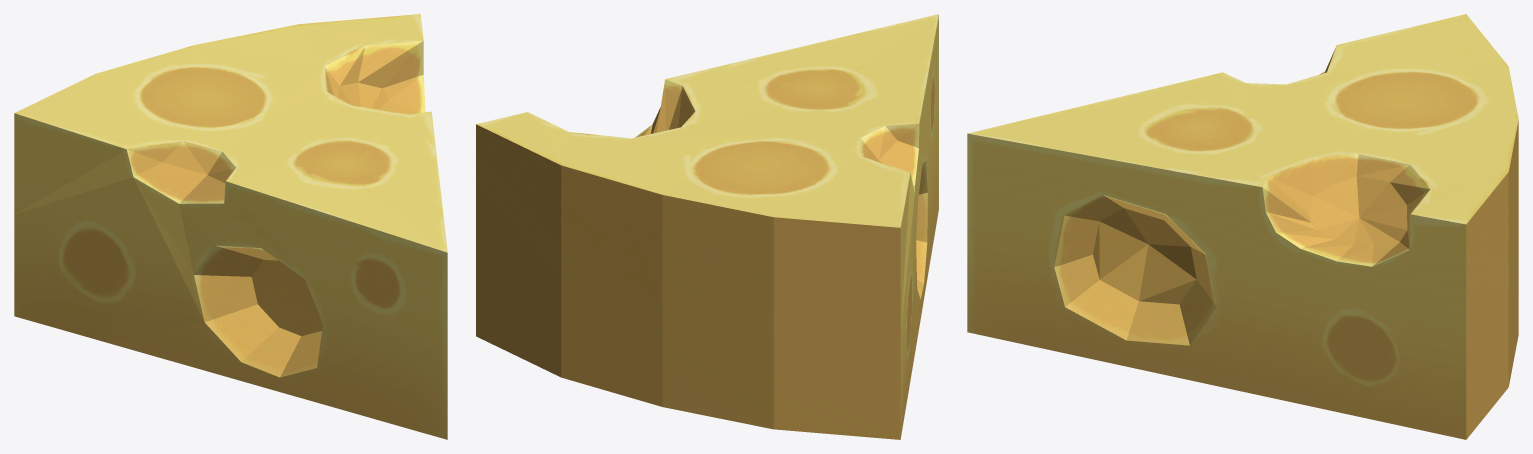
File: Cheese_Raw.obj
The picture shows the model from 3 angles, left to right: view 1: azimuth 30°, elevation 25°; view 2: azimuth 150°, elevation 25°; view 3: azimuth 270°, elevation 25°; orthographic projection. The views are drawn at different scales.
Visible parts, largest first — view 1: Cheese_Raw_ncl1_1; view 2: Cheese_Raw_ncl1_1; view 3: Cheese_Raw_ncl1_1.
Boxes of the visible parts, <box> form: Cheese_Raw_ncl1_1: <box>14,14,447,439</box>; Cheese_Raw_ncl1_1: <box>476,14,938,439</box>; Cheese_Raw_ncl1_1: <box>967,14,1518,439</box>.
Size of the model in its own units: 0.9169 by 0.4378 by 1.02.
Materials: 1 (1 with a texture image).
